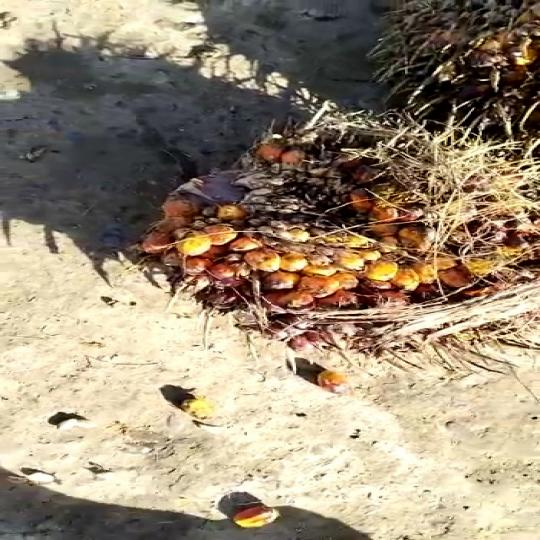terlalu masak: (108, 114, 540, 362)
